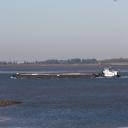tugboat: (97, 66, 123, 81)
